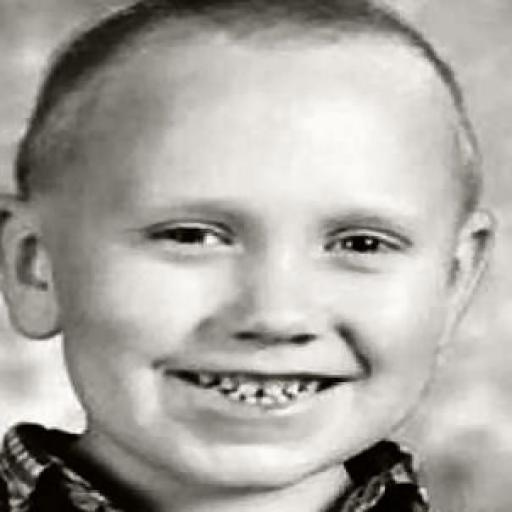Autism: (16, 5, 512, 498)
